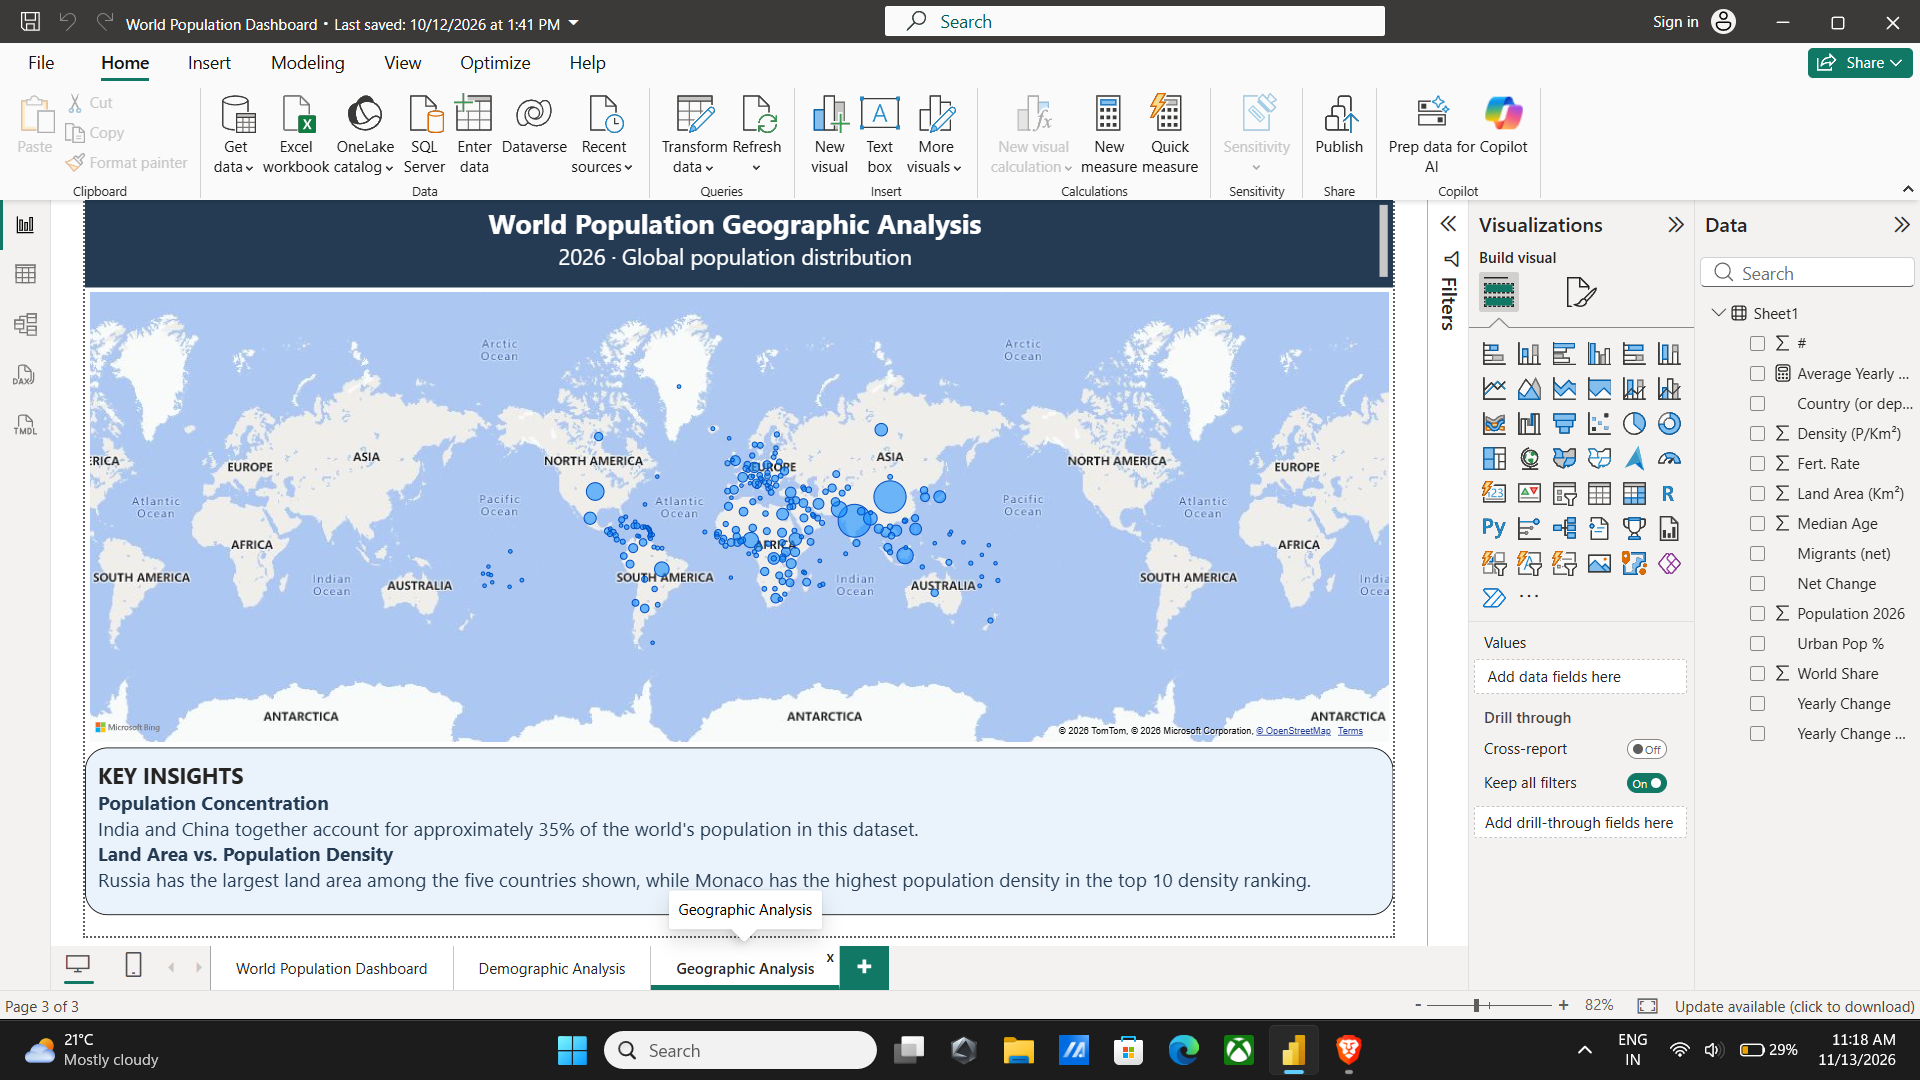

The page's visual inventory and layout, read from the dashboard file:
{"tool":"powerbi","page":{"name":"Geographic Analysis","canvas":[1280,720],"ordinal":2},"visuals":[{"type":"map","title":"World Population by Country (2026)","fields":{"Category":["Sheet1.Country (or dependency)"],"Size":["Sum(Sheet1.Population 2026)"]},"box":[0,85.6,1280.3,450],"z":0},{"type":"textbox","box":[0,0,1279.8,85.7],"z":1000},{"type":"textbox","box":[0,535.7,1279.8,164.3],"z":2000}]}

Visuals, with their boxes on the page's 1280x720 design canvas (x1, y1, x2, y2). These are canvas units, not pixel positions in the 1920x1080 screenshot, which may show the page scaled, cropped or inside an application window:
"World Population by Country (2026)" map: Rect(0, 86, 1280, 536)
textbox: Rect(0, 0, 1280, 86)
textbox: Rect(0, 536, 1280, 700)
